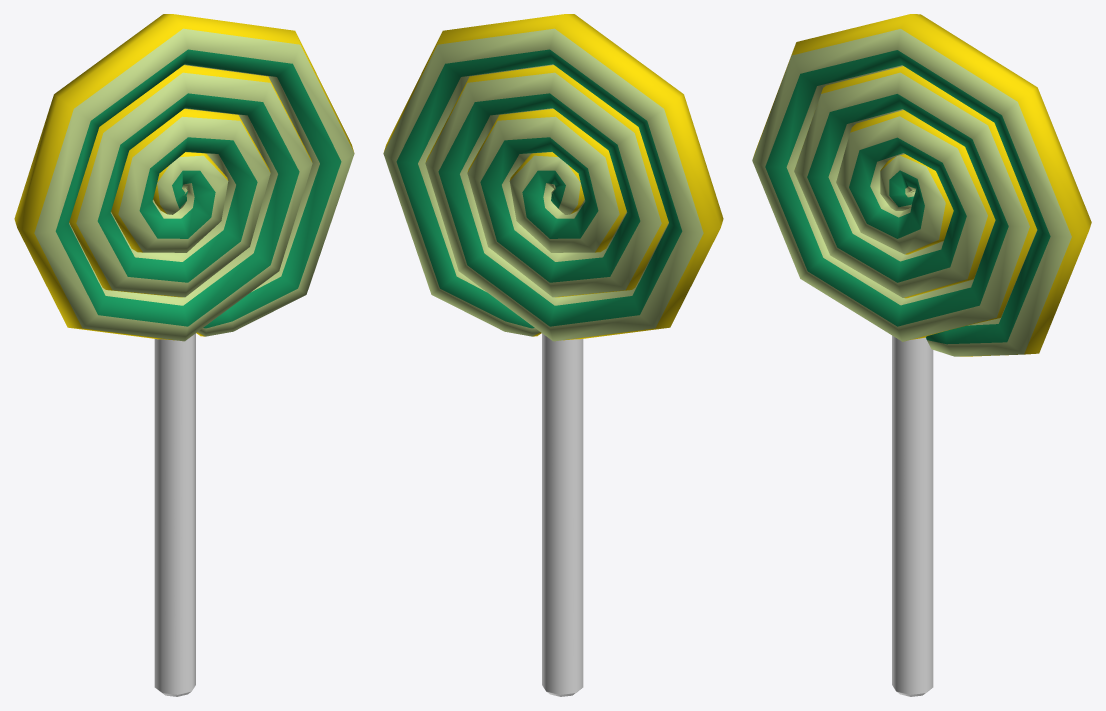
File: Candy_4.fbx
The picture shows the model from 3 angles, left to right: view 1: azimuth 30°, elevation 25°; view 2: azimuth 150°, elevation 25°; view 3: azimuth 330°, elevation 25°; orthographic projection.
Visible parts, largest first — view 1: Candy_4; view 2: Candy_4; view 3: Candy_4.
Part boxes in pixels (<box>): Candy_4: <box>14,14,354,696</box>; Candy_4: <box>383,14,723,696</box>; Candy_4: <box>752,14,1091,696</box>.
Size of the model in its own units: 1.76 by 3.41 by 0.2571.
